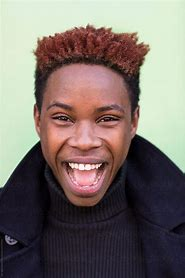person: (28, 27, 141, 209)
